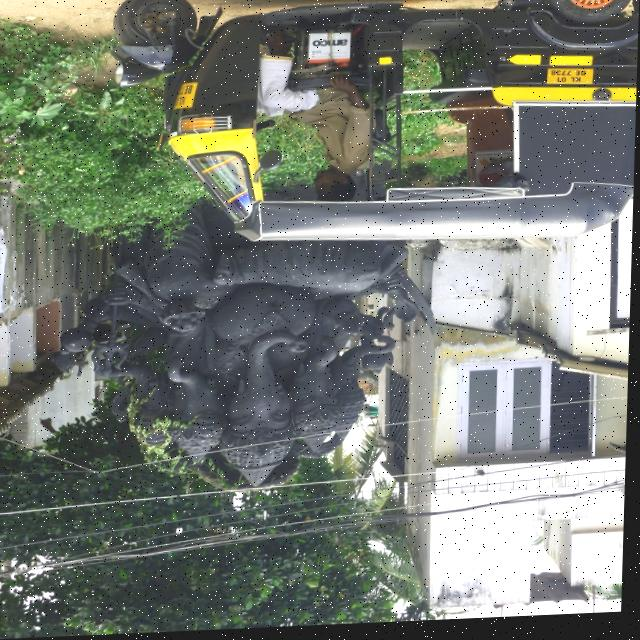plate: (543, 71, 595, 91)
